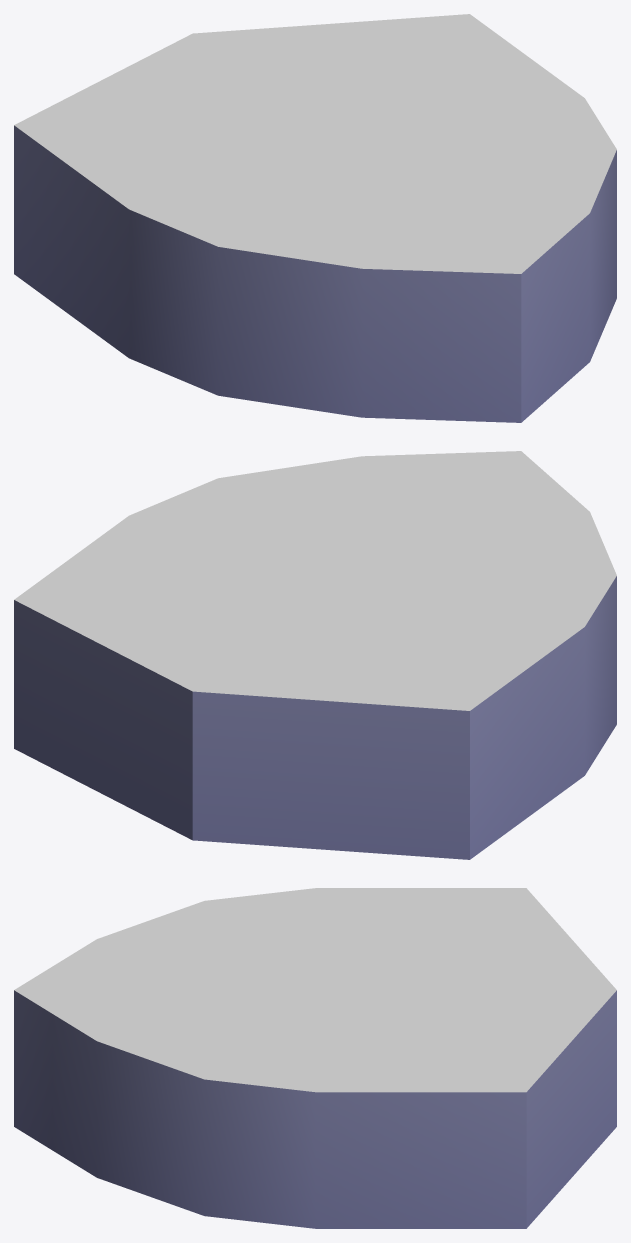
File: shape-shield_0.glb
3 renders of one model, top to bottom at view 1: azimuth 30°, elevation 25°; view 2: azimuth 150°, elevation 25°; view 3: azimuth 270°, elevation 25°, orthographic. The views are drawn at different scales.
Visible parts, largest first — view 1: shape-shield; view 2: shape-shield; view 3: shape-shield.
Boxes of the visible parts, <box> form: shape-shield: <box>14,14,616,422</box>; shape-shield: <box>14,451,616,859</box>; shape-shield: <box>14,888,616,1228</box>.
Size of the model in its own units: 0.2002 by 0.0625 by 0.25.
